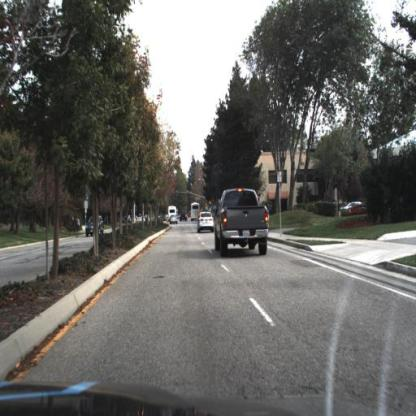car: (213, 186, 269, 260), (342, 204, 372, 222), (84, 213, 104, 237), (198, 211, 216, 236), (86, 216, 106, 238), (340, 201, 369, 211), (181, 213, 189, 223), (171, 215, 178, 224)
